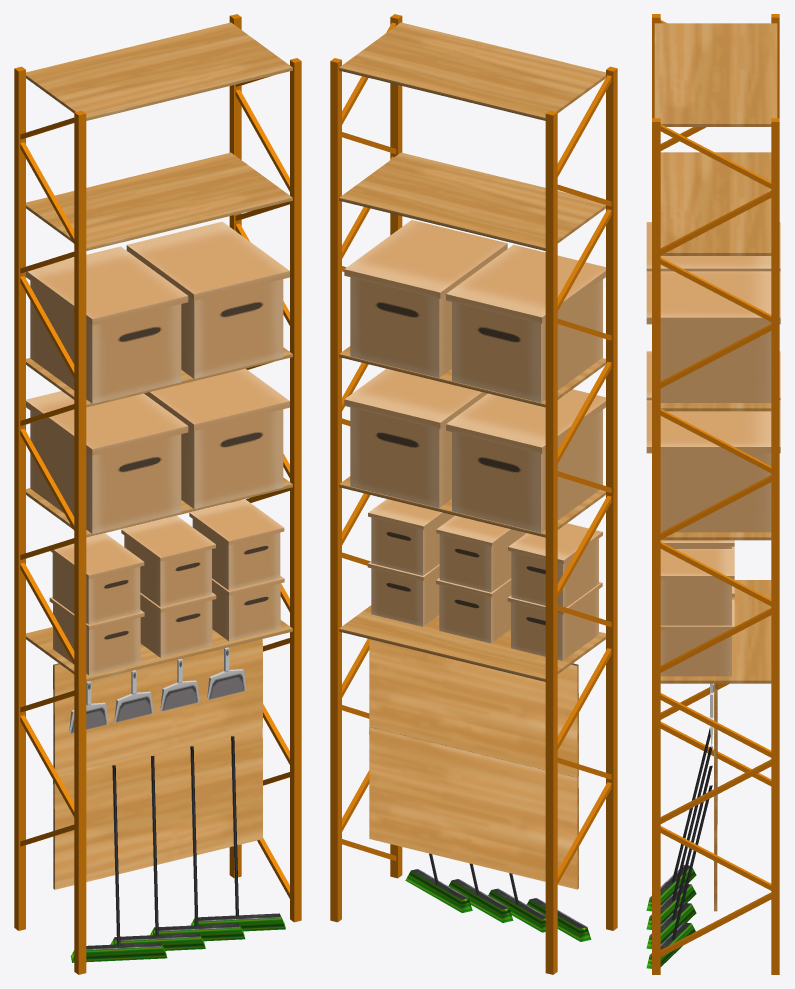
Rendered from Broom2_Rack.fbx.
The picture shows the model from 3 angles, left to right: view 1: azimuth 30°, elevation 25°; view 2: azimuth 150°, elevation 25°; view 3: azimuth 270°, elevation 25°; orthographic projection.
Parts seen in each view (by area): view 1: Broom_Rack1; view 2: Broom_Rack1; view 3: Broom_Rack1.
Boxes of the visible parts, <box> form: Broom_Rack1: <box>14,14,301,974</box>; Broom_Rack1: <box>330,14,617,974</box>; Broom_Rack1: <box>646,14,780,974</box>.
Size of the model in its own units: 2 by 7.39 by 1.05.
